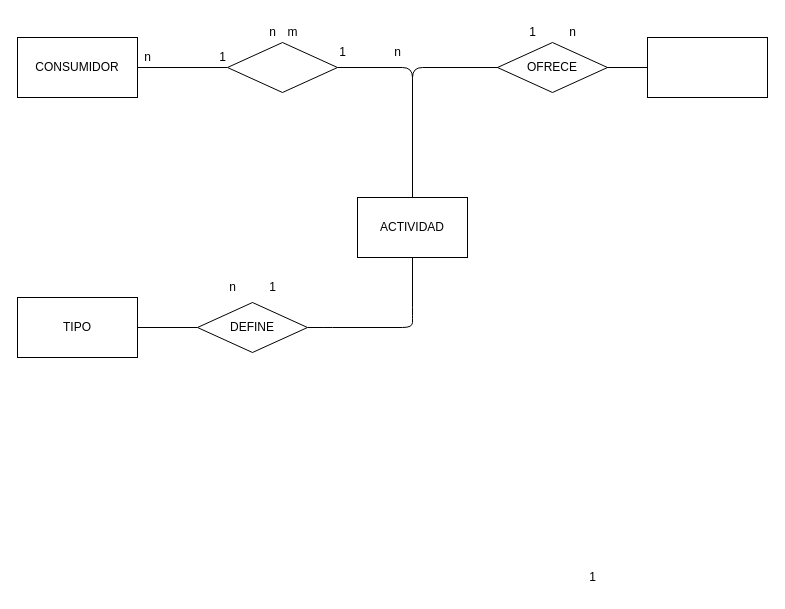
This 785x609 diagram has some shape labels left out. The centre of each missing label's shape, as x and y in pixels:
"CONSUME" goes at pixel 282 67.
"OFERTANTE" goes at pixel 707 67.
